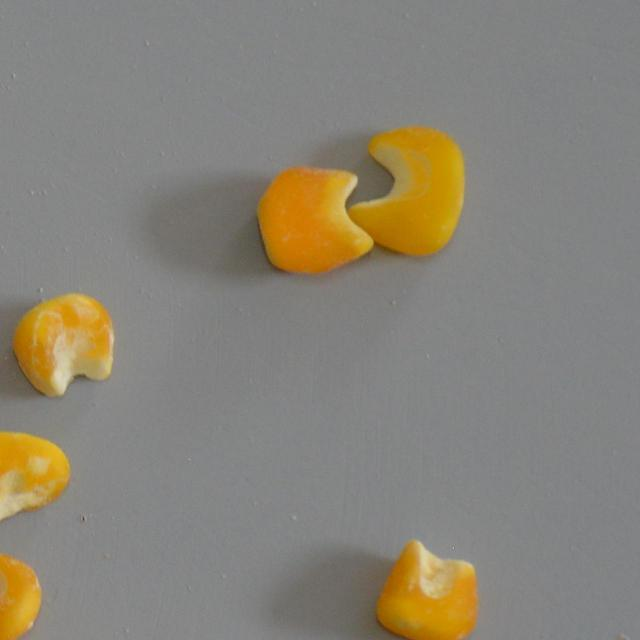no_canjicado: (346, 124, 468, 260), (376, 539, 479, 640), (0, 430, 68, 546)
pelicula: (254, 164, 373, 274), (10, 290, 118, 398), (0, 549, 42, 640)
